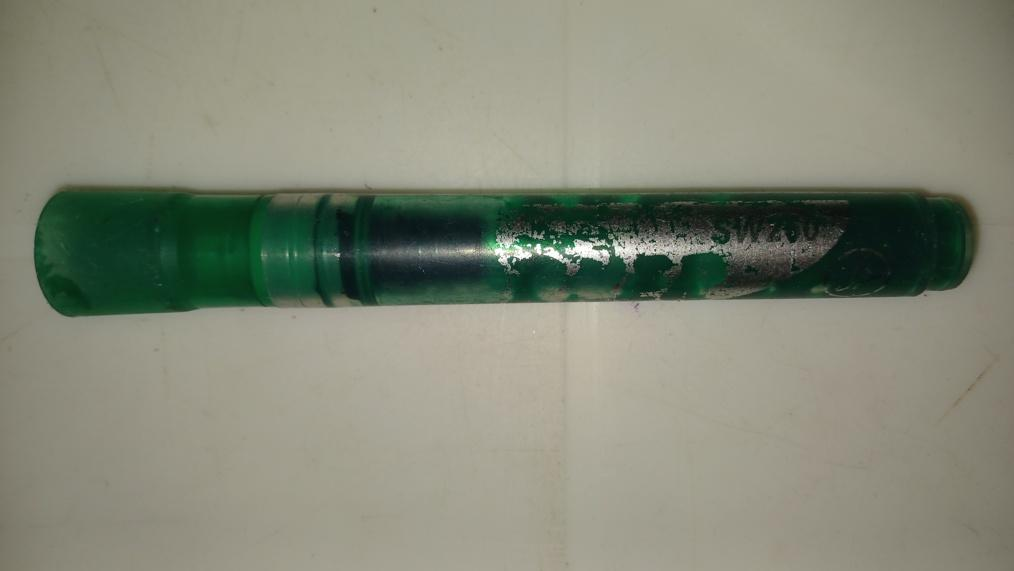Whiteboard marker: (26, 184, 977, 319)
